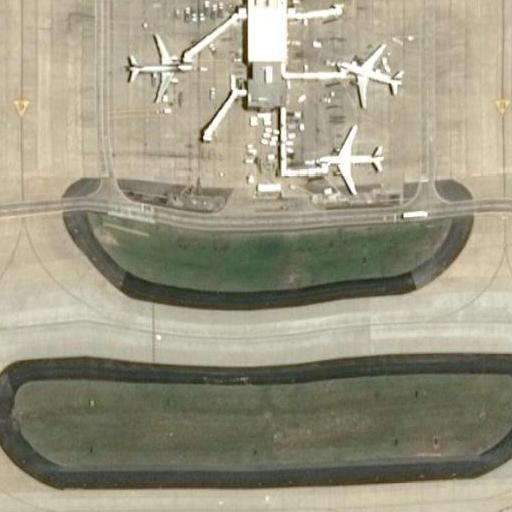Aircraft: (306, 124, 390, 194), (327, 38, 404, 111), (116, 28, 193, 101)
